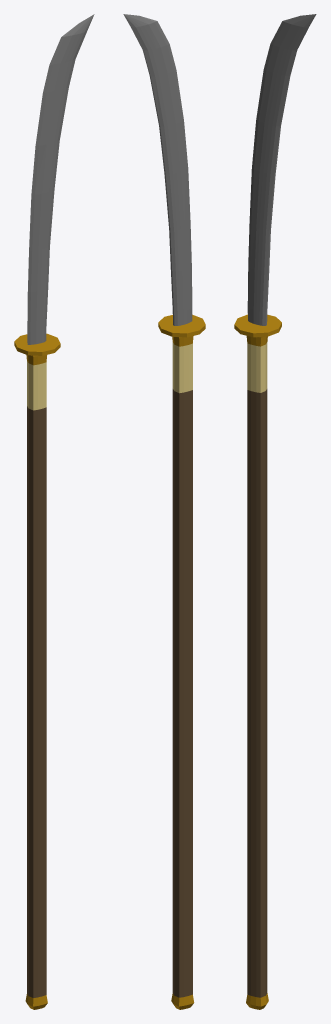
File: Asian_Prop_Weapon_Naginata_01.FBX
The picture shows the model from 3 angles, left to right: view 1: azimuth 30°, elevation 25°; view 2: azimuth 210°, elevation 25°; view 3: azimuth 330°, elevation 25°; orthographic projection. The views are drawn at different scales.
Visible parts, largest first — view 1: Asian_Prop_Weapon_Naginata_01; view 2: Asian_Prop_Weapon_Naginata_01; view 3: Asian_Prop_Weapon_Naginata_01.
Boxes of the visible parts, left/top/right/bottom form: Asian_Prop_Weapon_Naginata_01: left=14, top=14, right=94, bottom=1009; Asian_Prop_Weapon_Naginata_01: left=123, top=14, right=205, bottom=1009; Asian_Prop_Weapon_Naginata_01: left=234, top=14, right=316, bottom=1009.
Bounding box in the file's own units: 227 × 2759 × 113.
